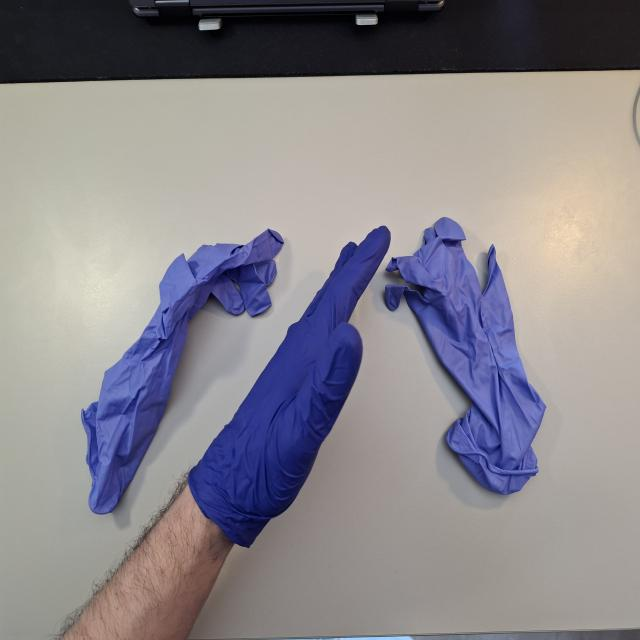glove_on: (186, 222, 393, 548)
